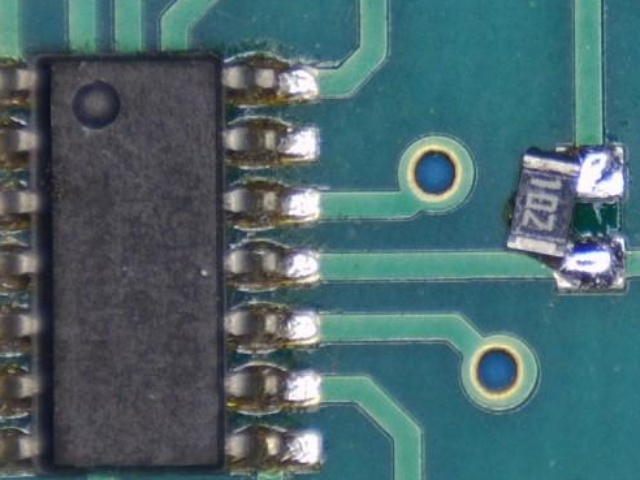pcb_defect: (504, 142, 627, 296)
